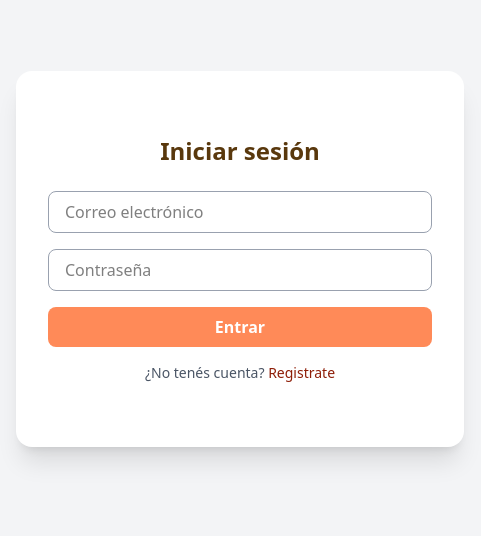
Test case: Login Component › muestra error de backend para registro fallido (422, email existente)
Click the button "Registrate": (302, 373) [268,363,335,383]
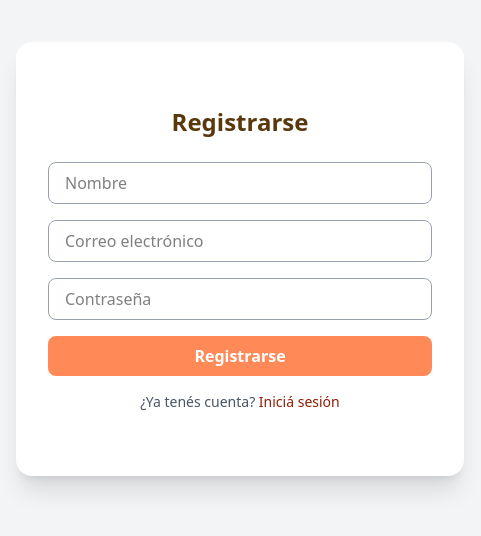
Expected: the heading "Registrarse" is shown, [172,105,308,138]
In the field with placeholder "Nombre": (240, 183) [48,162,432,204], type "Juan"
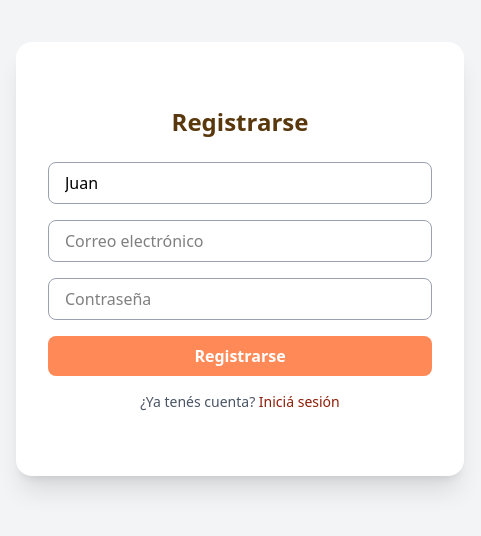
In the field with placeholder "Correo electrónico": (240, 241) [48,220,432,262], type "juan@example.com"
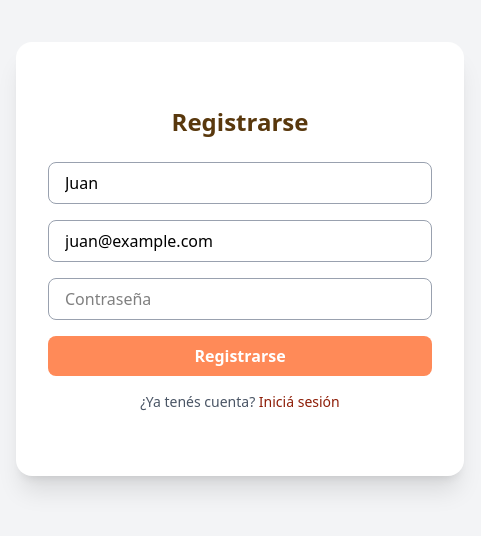
In the password field with placeholder "Contraseña": (240, 299) [48,278,432,320], type "password123"
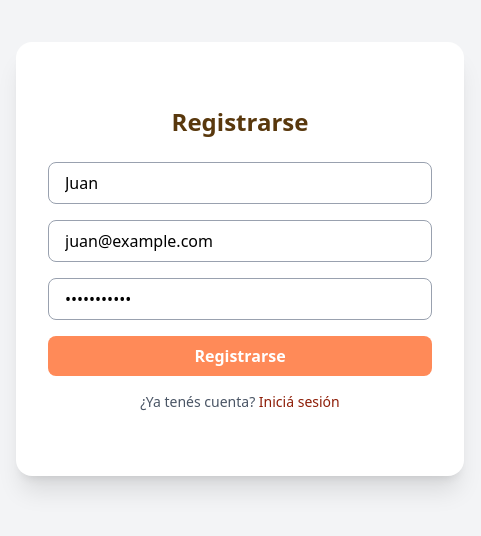
Click the button "Registrarse": (240, 356) [48,336,432,376]
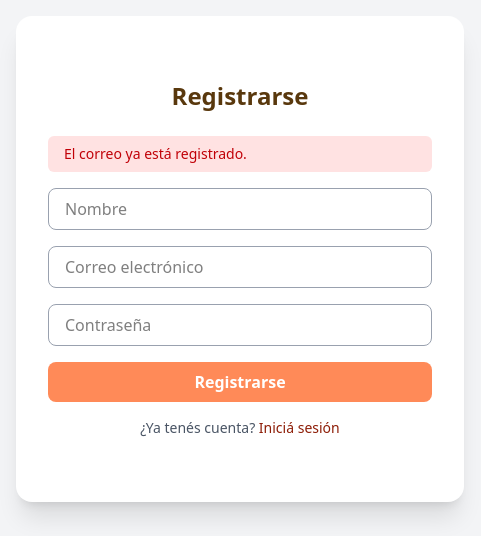
Expected: the text "El correo ya está registrado." is shown, [48,136,432,172]
